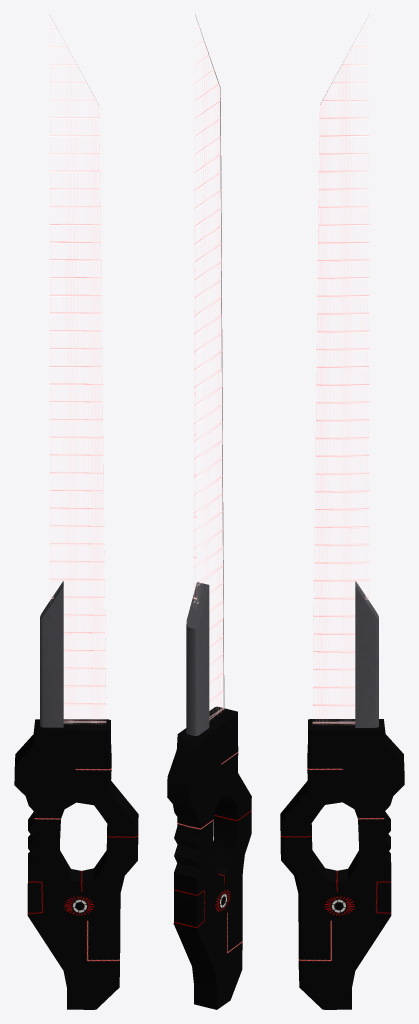
Rendered from sword_3.glb.
The picture shows the model from 3 angles, left to right: view 1: azimuth 90°, elevation 25°; view 2: azimuth 150°, elevation 25°; view 3: azimuth 270°, elevation 25°; orthographic projection.
Visible parts, largest first — view 1: Blade; view 2: Blade; view 3: Blade.
Boxes of the visible parts, box(x1,y1,x2,y2) form: Blade: box(14, 14, 138, 1009); Blade: box(167, 14, 251, 1009); Blade: box(280, 15, 404, 1009).
Size of the model in its own units: 0.0377 by 1.54 by 0.1746.
1 material, 1 textured.
